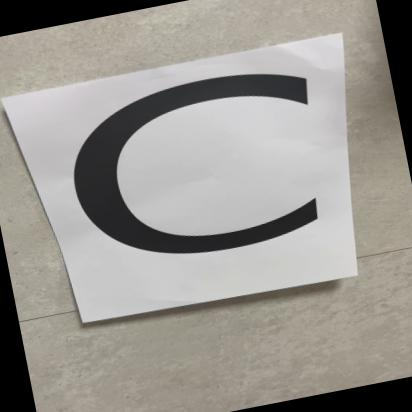seat: (8, 32, 393, 339)
